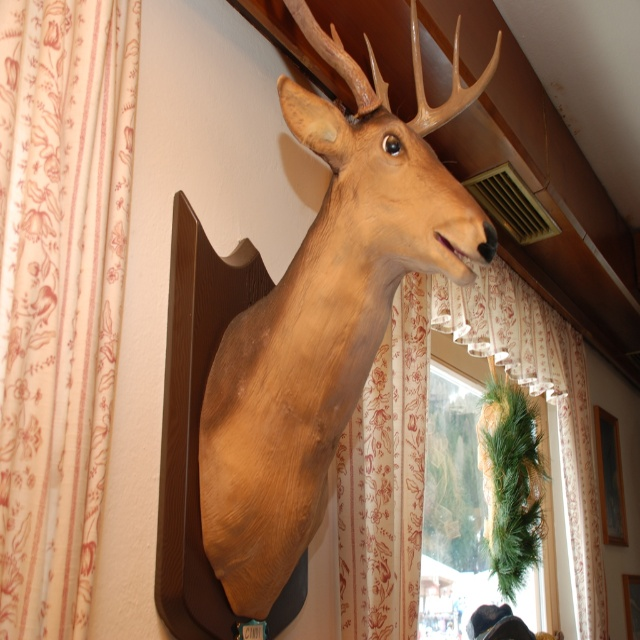Deer: (200, 0, 501, 619)
